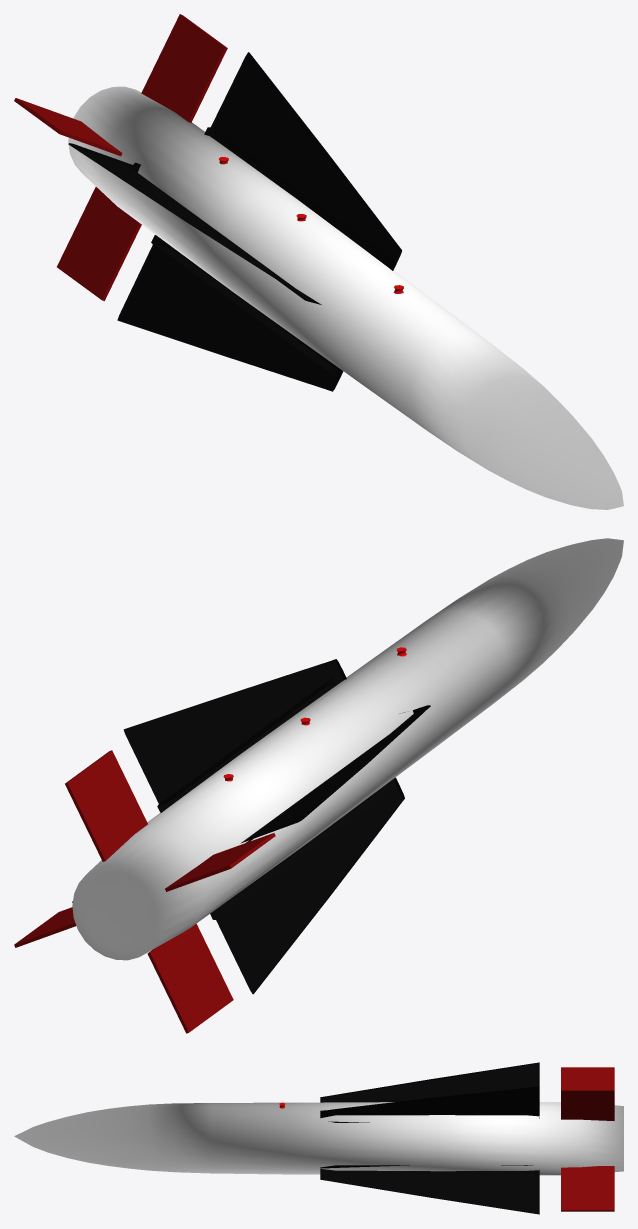
The model's file is missile.obj.
The picture shows the model from 3 angles, top to bottom: view 1: azimuth 30°, elevation 25°; view 2: azimuth 150°, elevation 25°; view 3: azimuth 270°, elevation 25°; orthographic projection. The views are drawn at different scales.
Parts seen in each view (by area): view 1: Aim-54_Phoenix_Aim-54_Phoenix_wire_034034034, Aim-54_Phoenix_Aim-54_Phoenix_wire_088143225, Aim-54_Phoenix_Aim-54_Phoenix_wire_006134113; view 2: Aim-54_Phoenix_Aim-54_Phoenix_wire_034034034, Aim-54_Phoenix_Aim-54_Phoenix_wire_088143225, Aim-54_Phoenix_Aim-54_Phoenix_wire_006134113; view 3: Aim-54_Phoenix_Aim-54_Phoenix_wire_034034034, Aim-54_Phoenix_Aim-54_Phoenix_wire_088143225, Aim-54_Phoenix_Aim-54_Phoenix_wire_006134113.
Boxes of the visible parts, left/top/right/bottom form: Aim-54_Phoenix_Aim-54_Phoenix_wire_034034034: left=68, top=86, right=623, bottom=509; Aim-54_Phoenix_Aim-54_Phoenix_wire_088143225: left=68, top=52, right=401, bottom=391; Aim-54_Phoenix_Aim-54_Phoenix_wire_006134113: left=14, top=14, right=227, bottom=300; Aim-54_Phoenix_Aim-54_Phoenix_wire_034034034: left=72, top=538, right=623, bottom=960; Aim-54_Phoenix_Aim-54_Phoenix_wire_088143225: left=72, top=659, right=430, bottom=994; Aim-54_Phoenix_Aim-54_Phoenix_wire_006134113: left=14, top=750, right=275, bottom=1033; Aim-54_Phoenix_Aim-54_Phoenix_wire_034034034: left=14, top=1102, right=623, bottom=1175; Aim-54_Phoenix_Aim-54_Phoenix_wire_088143225: left=320, top=1062, right=539, bottom=1214; Aim-54_Phoenix_Aim-54_Phoenix_wire_006134113: left=561, top=1067, right=614, bottom=1211.
Size of the model in its own units: 0.1306 by 0.1268 by 0.496.
